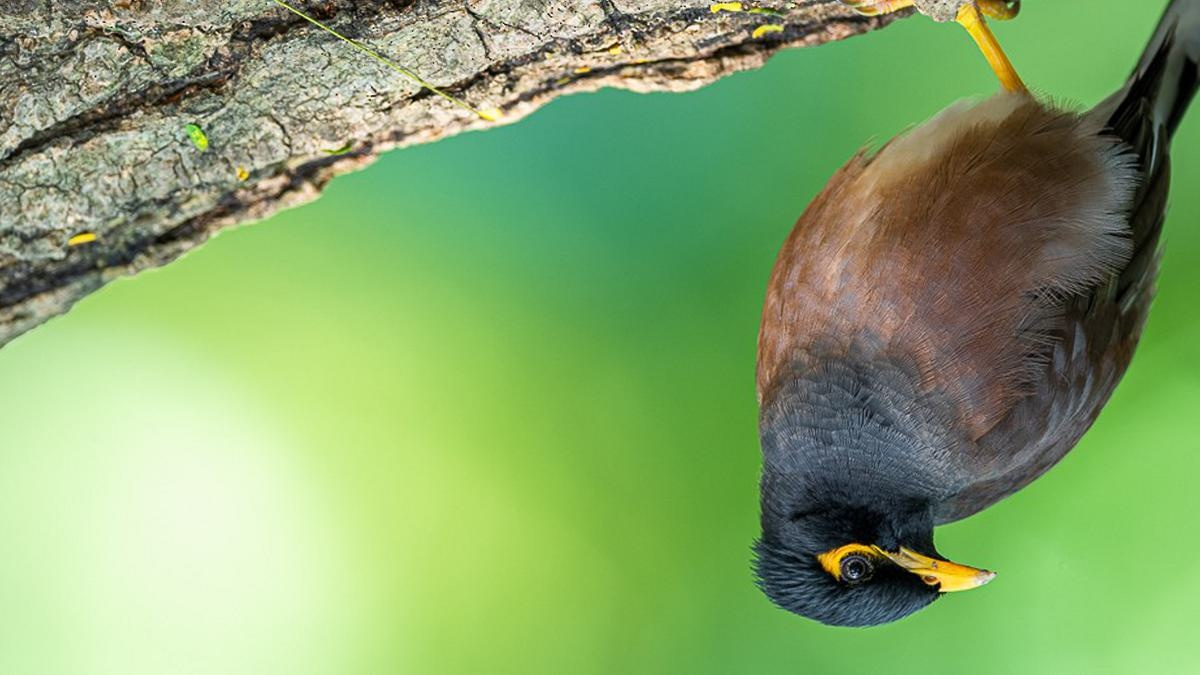myna: (725, 32, 1200, 635)
